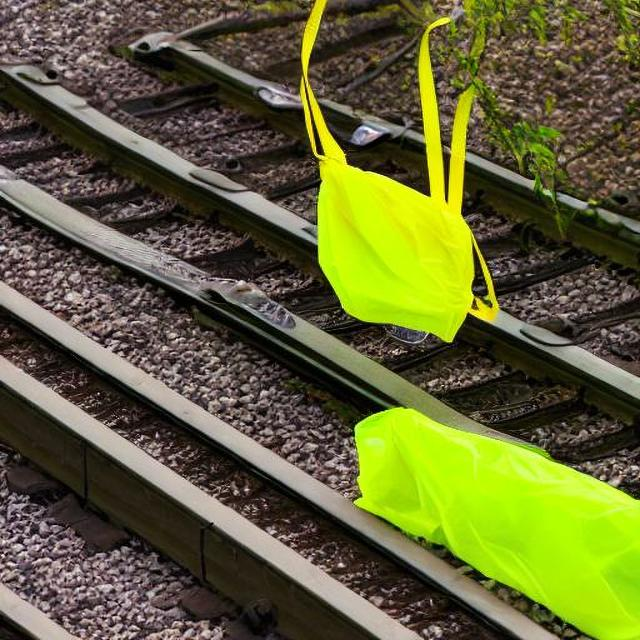plastic bag: (299, 9, 530, 357), (346, 401, 640, 639)
